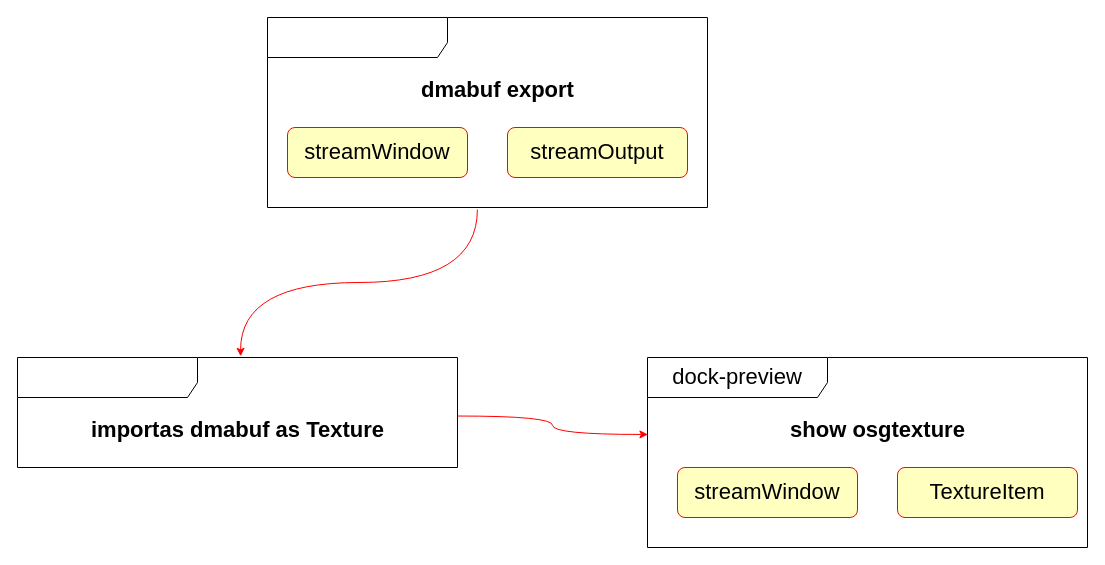
This 1105x565 diagram has some shape labels left out. Each missing label, with the box of its shape:
lib: (16, 356, 458, 468)
WaylandServer: (266, 16, 708, 208)
